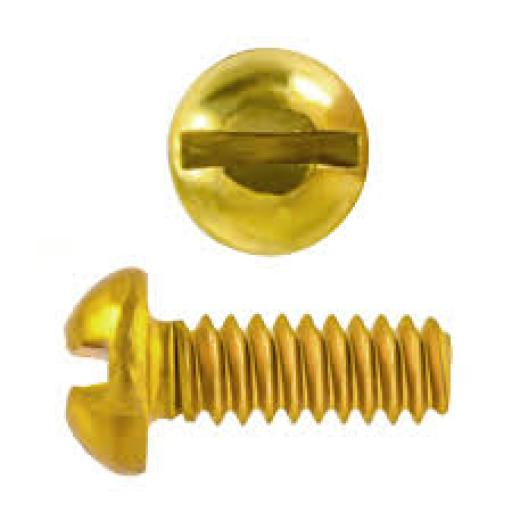Slotted: (164, 47, 367, 256)
